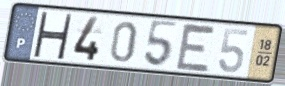0: (108, 20, 142, 63)
4: (70, 15, 101, 63)
5: (142, 19, 181, 71), (216, 26, 250, 74)
E: (174, 21, 218, 74)
H: (31, 10, 75, 61)
